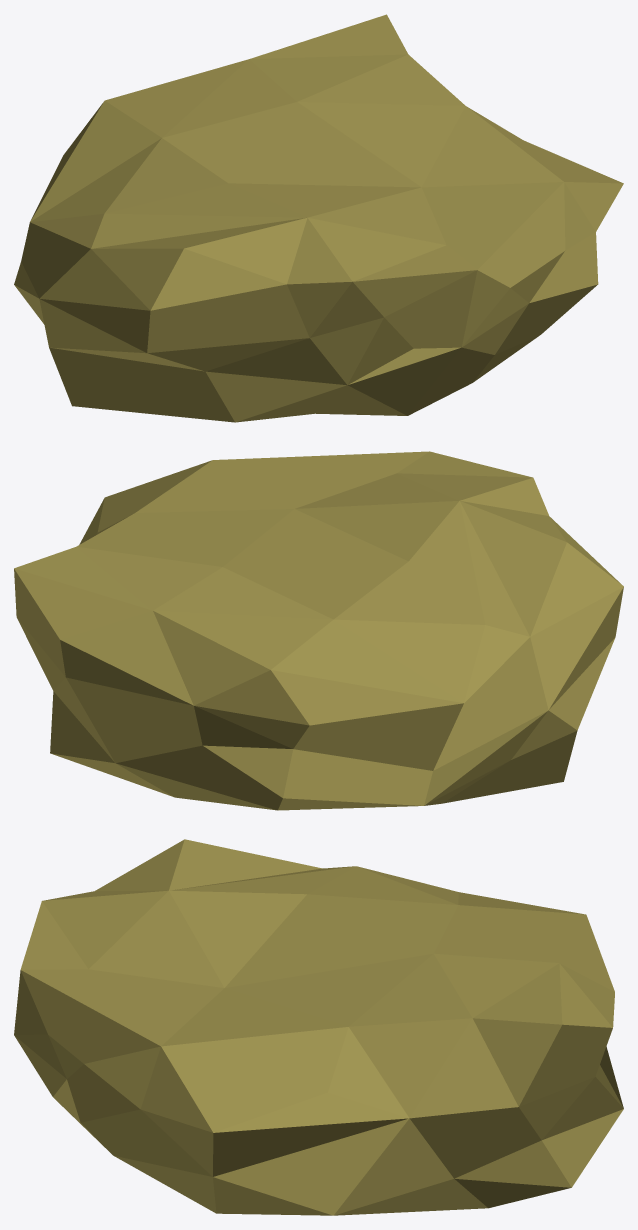
The model's file is stone2.fbx.
3 renders of one model, top to bottom at view 1: azimuth 30°, elevation 25°; view 2: azimuth 150°, elevation 25°; view 3: azimuth 270°, elevation 25°, orthographic. The views are drawn at different scales.
Parts seen in each view (by area): view 1: Cylinder.038; view 2: Cylinder.038; view 3: Cylinder.038.
Part boxes in pixels (<box>): Cylinder.038: <box>14,14,623,422</box>; Cylinder.038: <box>14,451,623,810</box>; Cylinder.038: <box>14,839,623,1215</box>.
Size of the model in its own units: 3.4 by 1.26 by 3.22.
